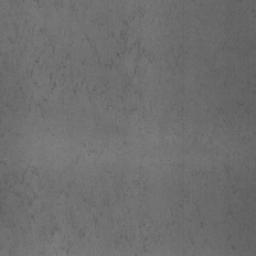Silk spot: (68, 211, 85, 239), (116, 31, 132, 58), (134, 41, 152, 64), (18, 192, 38, 208), (133, 177, 147, 191), (49, 73, 56, 94), (61, 242, 73, 254), (123, 16, 135, 26), (51, 224, 60, 236), (123, 107, 137, 114)
